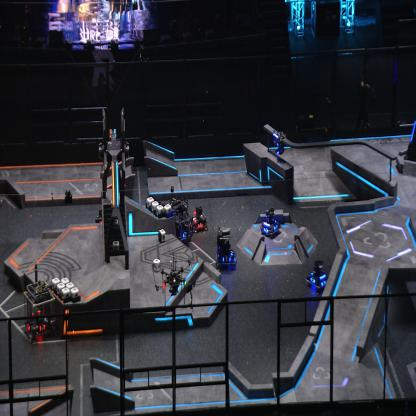car: (23, 282, 57, 344), (168, 200, 193, 245), (215, 224, 238, 268), (304, 257, 330, 291), (260, 208, 280, 238), (188, 204, 208, 233)
